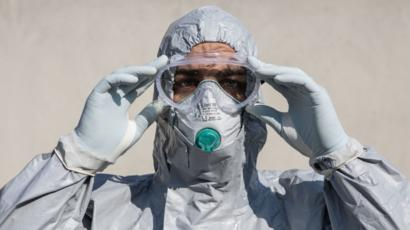with_mask: (156, 24, 268, 155)
